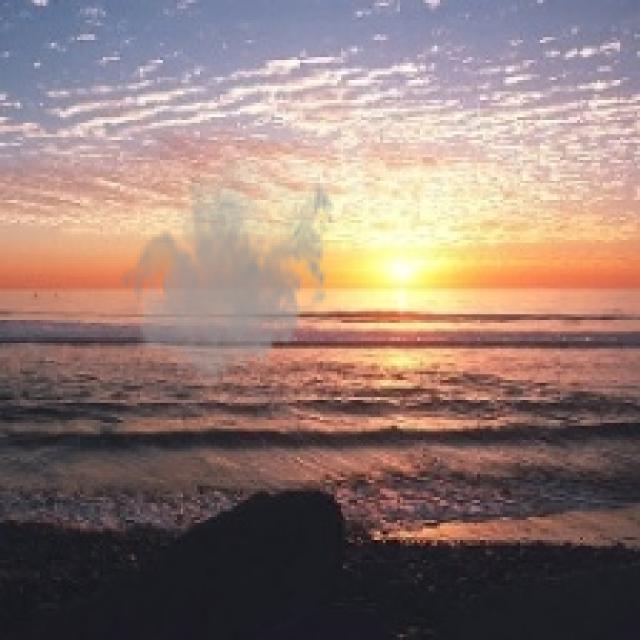Smoke: (117, 148, 340, 392)
